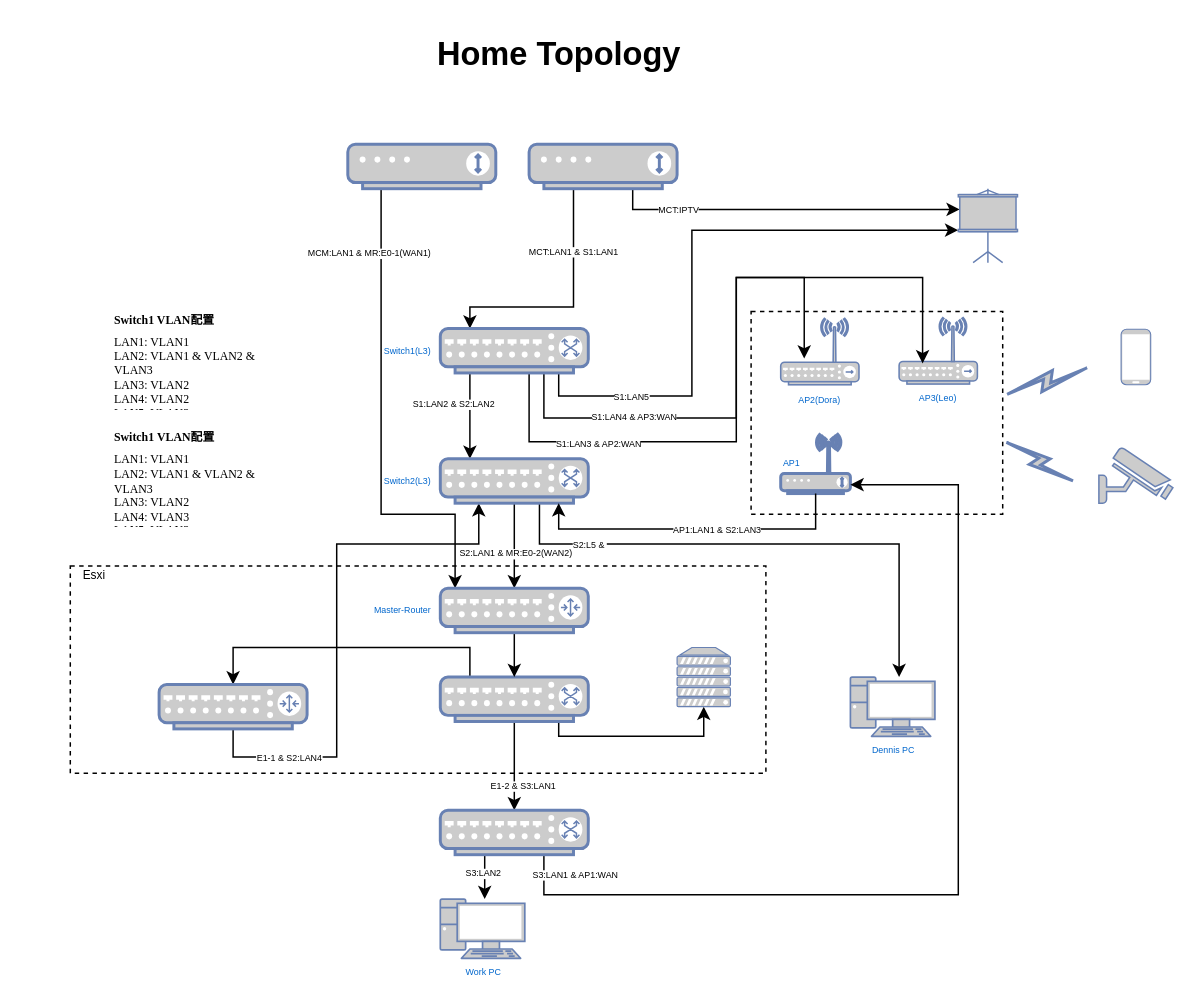
This 1199x1003 diagram has some shape labels left out. Each missing label, with the box of its shape:
Bridge-Router: (157, 682, 308, 730)
Moden-CM: (346, 142, 497, 189)
Moden-CT: (527, 142, 678, 189)
Switch3(L2): (438, 808, 589, 855)
VituralSwitch: (438, 675, 589, 722)
